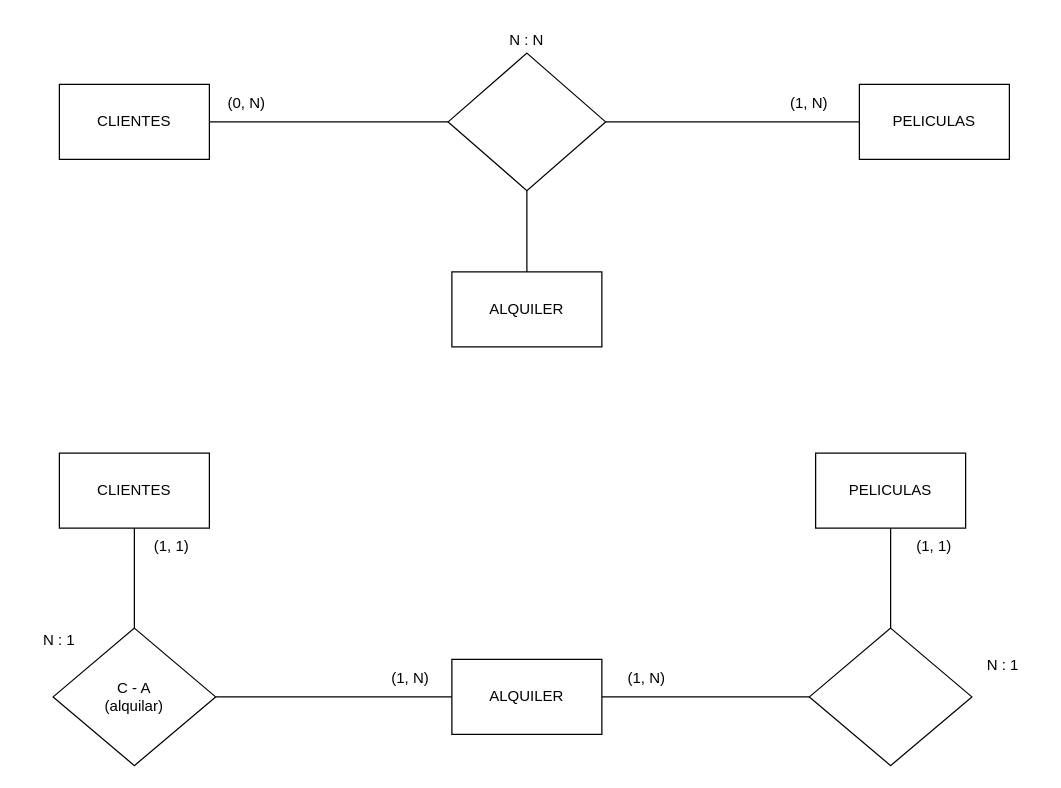
The diagram is 1061 pixels wide and 788 high, and some of its shapes have lost their labels. The centre of each missing label's shape, as x and y in pixels:
"C - P (alquilar)" belongs at [526,121].
"P - A (alquilar)" belongs at [890,696].
